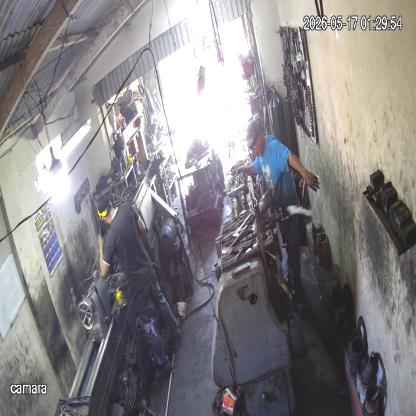lentes: (246, 138, 259, 155)
